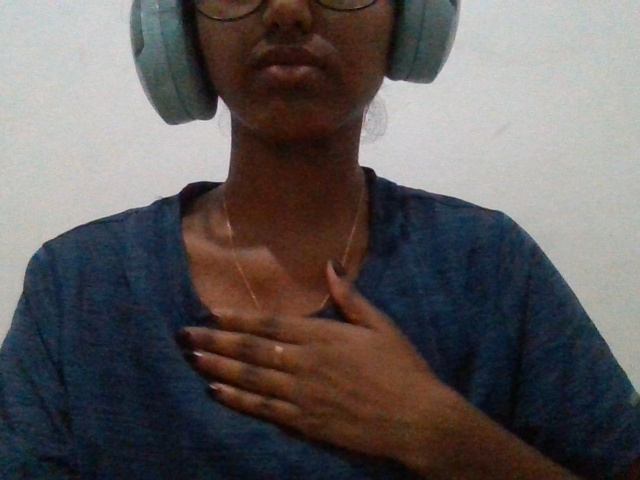Please: (144, 231, 497, 479)
